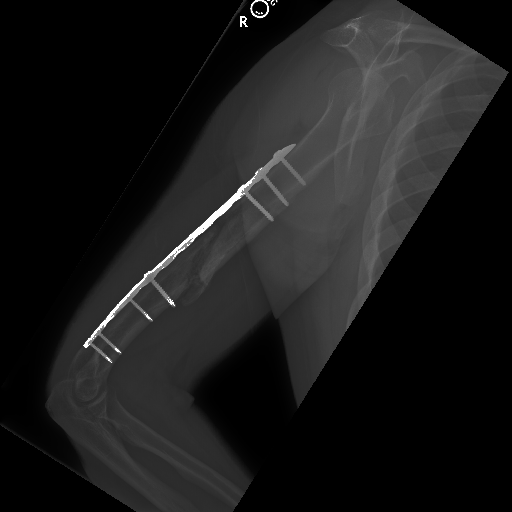implant: (87, 257, 170, 370), (241, 141, 308, 224)
